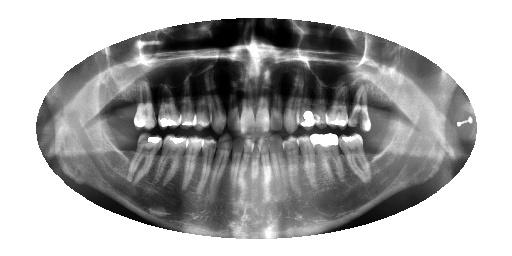i10healthy: (226, 132, 248, 202)
i11healthy: (204, 131, 236, 203)
i12healthy: (197, 139, 220, 210)
i13healthy: (177, 132, 205, 194)
i14healthy: (150, 129, 194, 194)
i15healthy: (123, 127, 164, 194)
i2healthy: (335, 129, 377, 186)
i3healthy: (307, 128, 350, 190)
i4healthy: (294, 129, 323, 197)
i5healthy: (279, 129, 302, 205)
i6healthy: (264, 130, 292, 204)
i7healthy: (253, 127, 278, 203)
i8healthy: (247, 131, 264, 205)
i9healthy: (235, 134, 258, 205)
u10healthy: (223, 65, 243, 138)
u11healthy: (201, 63, 228, 135)
u12healthy: (187, 66, 213, 134)
u13healthy: (177, 66, 201, 134)
u14healthy: (152, 72, 183, 132)
u15healthy: (125, 67, 162, 134)
u2healthy: (346, 76, 373, 139)
u3healthy: (322, 73, 351, 132)
u4healthy: (306, 72, 329, 130)
u5healthy: (294, 69, 319, 132)
u6healthy: (282, 67, 306, 140)
u7healthy: (267, 61, 284, 136)
u8healthy: (253, 56, 271, 134)
u9healthy: (234, 62, 257, 139)
